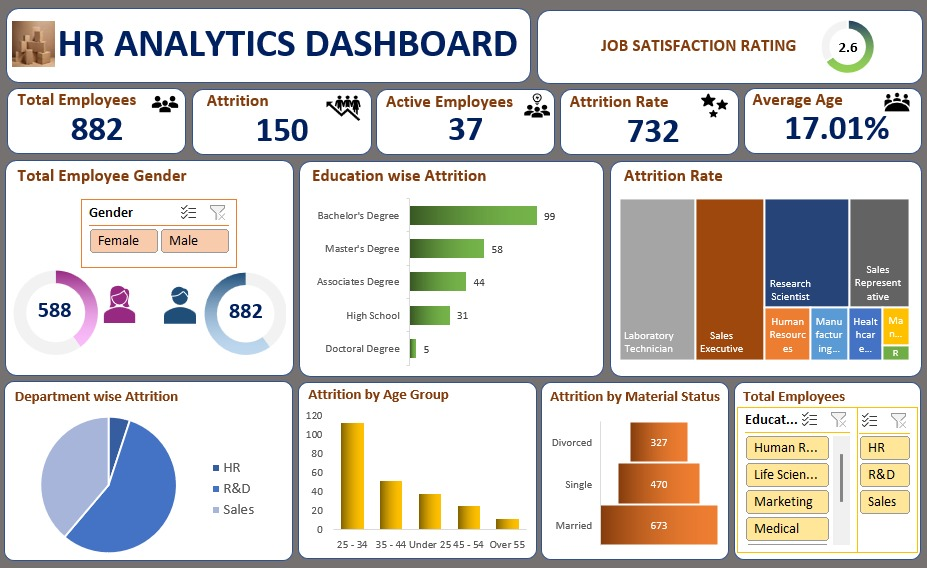

This screenshot's page, from the dashboard's own definition file:
{"tool":"powerbi","page":{"name":"Page 1","canvas":[1650,880],"ordinal":0},"visuals":[{"type":"card","title":"Overall Employees","fields":{"Values":["Sum(HR data.Employee Count)"]},"box":[13.3,135,313.3,110],"z":0},{"type":"card","title":"Attrition","fields":{"Values":["Sum(HR data.Attrition Count)"]},"box":[336.7,135,315,111.7],"z":1000},{"type":"card","title":"Attrition Rate","fields":{"Values":["HR data.Attrition Rate"]},"box":[663.3,135,323.3,111.7],"z":2000},{"type":"card","title":"Active Employees","fields":{"Values":["HR data.Active Employees"]},"box":[999,135,323.3,111.7],"z":3000},{"type":"card","title":"Average Age","fields":{"Values":["Avg(HR data.Age)"]},"box":[1331.7,135,303.3,111.7],"z":4000},{"type":"pieChart","title":"Department Wise Attrition","fields":{"Y":["Sum(HR data.Attrition Count)"],"Category":["HR data.Department"]},"box":[11.7,257.1,475.7,297],"z":5000},{"type":"columnChart","title":"Number of Employee by Age Group","fields":{"Category":["HR data.CF_age band"],"Y":["Sum(HR data.Employee Count)"],"Series":["HR data.Gender"]},"box":[498.3,256.7,588.3,297],"z":6000},{"type":"pivotTable","title":"Job Satisfaction Rating","fields":{"Rows":["HR data.Job Role"],"Columns":["HR data.Job Satisfaction"],"Values":["Sum(HR data.Employee Count)"]},"box":[1096.7,266.7,540,296.7],"z":7000},{"type":"barChart","title":" Education Field Wise Attrition ","fields":{"Category":["HR data.Education Field"],"Y":["Sum(HR data.Attrition Count)"]},"box":[13.3,563.3,365,301.7],"z":8000},{"type":"donutChart","title":"25 -34","fields":{"Category":["HR data.Gender"],"Y":["Sum(HR data.Attrition Count)"],"Series":["HR data.CF_age band"]},"box":[640.7,611.2,242.9,254.3],"z":9000},{"type":"textbox","title":"Attrition Rate by Gender for Different Age Groups","box":[386.7,563.3,1248.3,36.7],"z":10000},{"type":"donutChart","title":"35 - 44","fields":{"Category":["HR data.Gender"],"Y":["Sum(HR data.Attrition Count)"],"Series":["HR data.CF_age band"]},"box":[891.7,611.2,242.9,254.3],"z":11000},{"type":"donutChart","title":"45 -54","fields":{"Category":["HR data.Gender"],"Y":["Sum(HR data.Attrition Count)"],"Series":["HR data.CF_age band"]},"box":[1141.7,611.2,242.9,254.3],"z":12000},{"type":"donutChart","title":"Above 55","fields":{"Category":["HR data.Gender"],"Y":["Sum(HR data.Attrition Count)"],"Series":["HR data.CF_age band"]},"box":[1393.1,611.2,242.9,254.3],"z":13000},{"type":"donutChart","title":"Under 25","fields":{"Category":["HR data.Gender"],"Y":["Sum(HR data.Attrition Count)"],"Series":["HR data.CF_age band"]},"box":[388.8,611.2,242.9,254.3],"z":14000},{"type":"card","fields":{"Values":["Sum(HR data.Attrition Count)"]},"box":[474.5,725.5,70,82.9],"z":15000},{"type":"card","fields":{"Values":["Sum(HR data.Attrition Count)"]},"box":[1478.8,725.5,70,82.9],"z":16000},{"type":"card","fields":{"Values":["Sum(HR data.Attrition Count)"]},"box":[1227.4,725.5,70,82.9],"z":17000},{"type":"card","fields":{"Values":["Sum(HR data.Attrition Count)"]},"box":[977.4,725.5,70,82.9],"z":18000},{"type":"card","fields":{"Values":["Sum(HR data.Attrition Count)"]},"box":[714.5,719.8,94.3,92.9],"z":19000},{"type":"advancedSlicerVisual","fields":{"Values":["HR data.Education"]},"box":[700,13.3,935,108.3],"z":20000},{"type":"textbox","title":"HR ANALYTICS DASHBOARD","box":[11.7,33.3,675,68.3],"z":21000}]}

Visuals, with their boxes on the page's 1650x880 design canvas (x1, y1, x2, y2). These are canvas units, not pixel positions in the 927x568 screenshot, which may show the page scaled, cropped or inside an application window:
"Overall Employees" card: box(13, 135, 327, 245)
"Attrition" card: box(337, 135, 652, 247)
"Attrition Rate" card: box(663, 135, 987, 247)
"Active Employees" card: box(999, 135, 1322, 247)
"Average Age" card: box(1332, 135, 1635, 247)
"Department Wise Attrition" pieChart: box(12, 257, 487, 554)
"Number of Employee by Age Group" columnChart: box(498, 257, 1087, 554)
"Job Satisfaction Rating" pivotTable: box(1097, 267, 1637, 563)
" Education Field Wise Attrition " barChart: box(13, 563, 378, 865)
"25 -34" donutChart: box(641, 611, 884, 866)
"Attrition Rate by Gender for Different Age Groups" textbox: box(387, 563, 1635, 600)
"35 - 44" donutChart: box(892, 611, 1135, 866)
"45 -54" donutChart: box(1142, 611, 1385, 866)
"Above 55" donutChart: box(1393, 611, 1636, 866)
"Under 25" donutChart: box(389, 611, 632, 866)
card - Sum(HR data.Attrition Count): box(474, 726, 544, 808)
card - Sum(HR data.Attrition Count): box(1479, 726, 1549, 808)
card - Sum(HR data.Attrition Count): box(1227, 726, 1297, 808)
card - Sum(HR data.Attrition Count): box(977, 726, 1047, 808)
card - Sum(HR data.Attrition Count): box(714, 720, 809, 813)
advancedSlicerVisual - HR data.Education: box(700, 13, 1635, 122)
"HR ANALYTICS DASHBOARD" textbox: box(12, 33, 687, 102)
